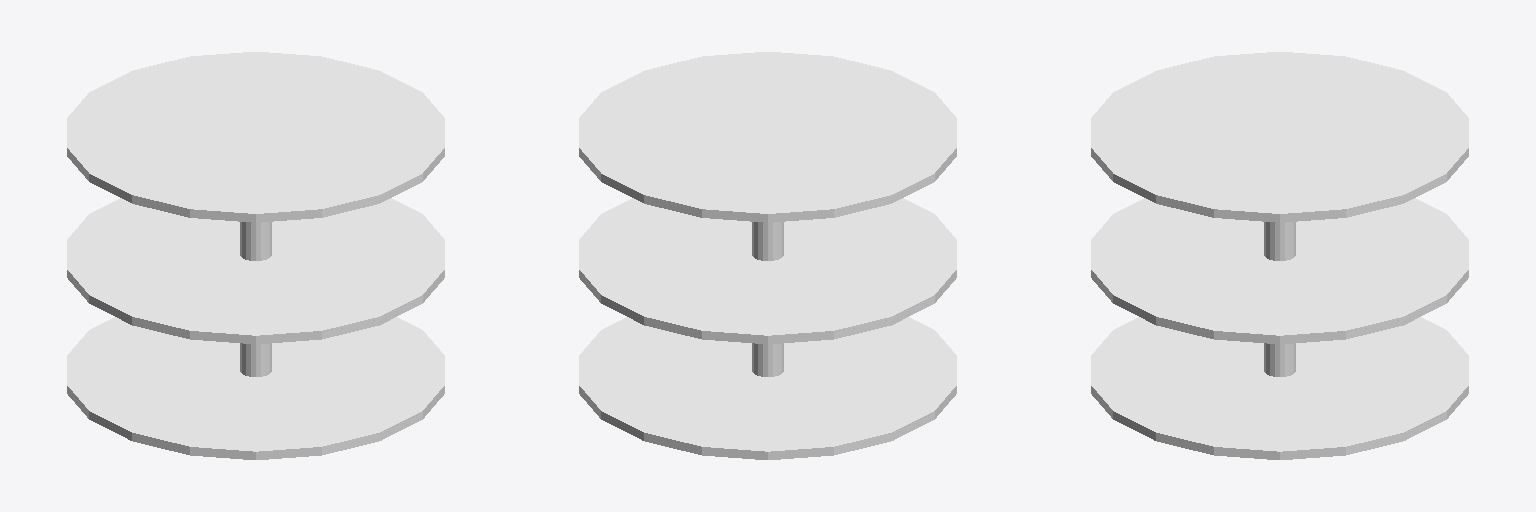
File: bookcase.obj
3 renders of one model, left to right at view 1: azimuth 30°, elevation 25°; view 2: azimuth 150°, elevation 25°; view 3: azimuth 270°, elevation 25°, orthographic.
Visible parts, largest first — view 1: bookcase4, bookcase3, bookcase2, bookcase1; view 2: bookcase4, bookcase3, bookcase2, bookcase1; view 3: bookcase4, bookcase3, bookcase2, bookcase1.
Boxes of the visible parts, x1,y1,x2,y2 form: bookcase4: [67, 52, 444, 222]; bookcase3: [67, 198, 444, 343]; bookcase2: [67, 317, 444, 459]; bookcase1: [240, 222, 271, 376]; bookcase4: [579, 52, 956, 222]; bookcase3: [579, 198, 956, 343]; bookcase2: [579, 317, 956, 459]; bookcase1: [752, 222, 783, 376]; bookcase4: [1091, 52, 1468, 222]; bookcase3: [1091, 198, 1468, 343]; bookcase2: [1091, 317, 1468, 459]; bookcase1: [1264, 222, 1295, 376].
Size of the model in its own units: 47.24 by 33.38 by 46.53.